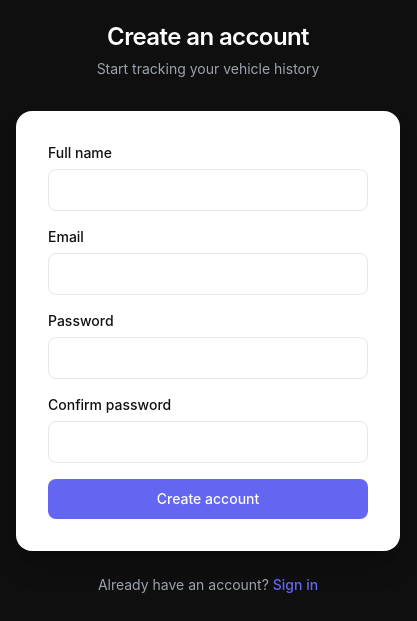
Test: RegisterPage › shows name validation error
This screenshot has width=417, height=621.
In the field labelled "Full name": (208, 190) [48, 169, 368, 211], type "A"
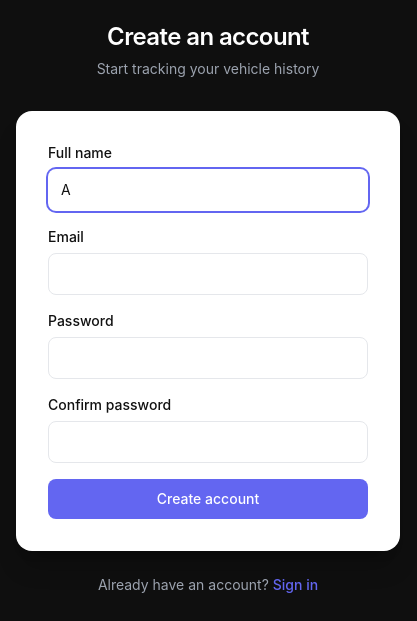
In the field labelled "Email": (208, 274) [48, 253, 368, 295], type "user@test.com"
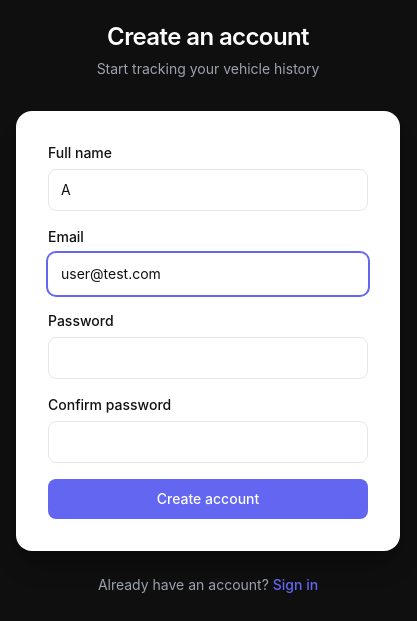
In the password field labelled "Password": (208, 358) [48, 337, 368, 379], type "password123"
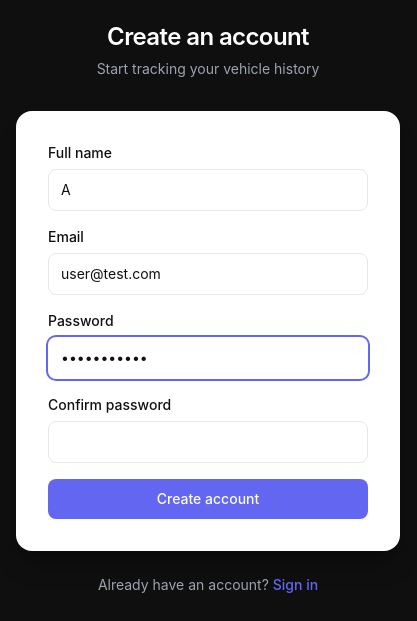
In the password field labelled "Confirm password": (208, 442) [48, 421, 368, 463], type "password123"
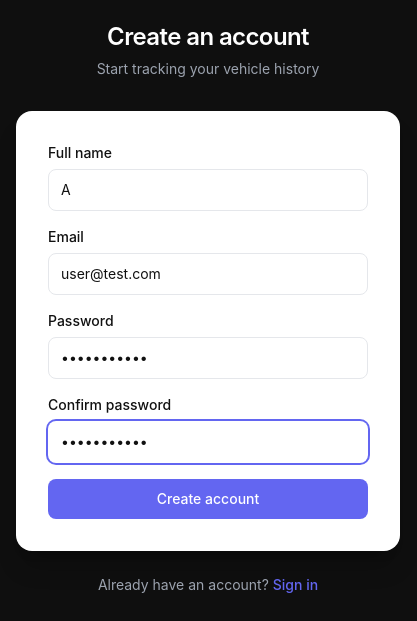
Click the button "Create account": (208, 499) [48, 479, 368, 519]
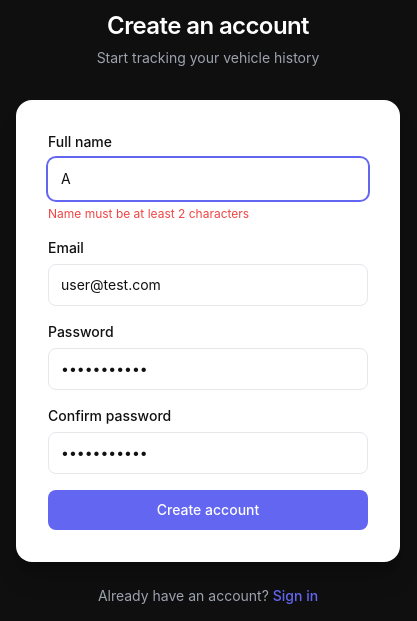
Expected: the text "Name must be at least 2 characters" is shown, [48, 206, 249, 221]
